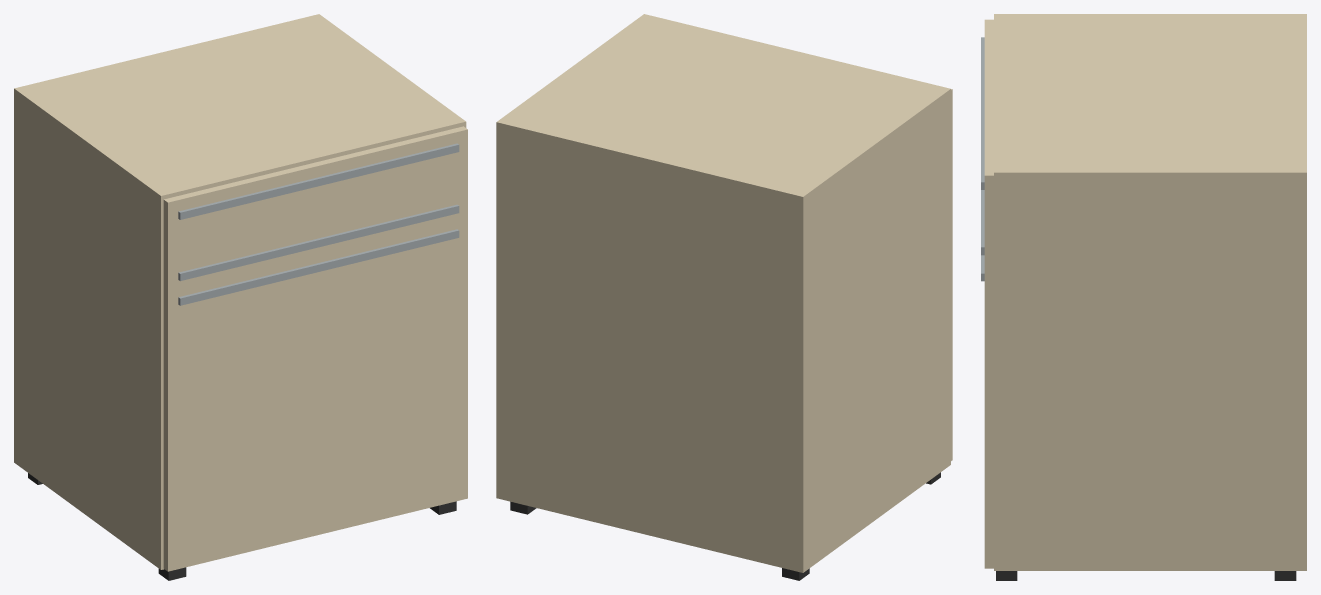
3 renders of one model, left to right at view 1: azimuth 30°, elevation 25°; view 2: azimuth 150°, elevation 25°; view 3: azimuth 270°, elevation 25°, orthographic. The views are drawn at different scales.
Parts seen in each view (by area): view 1: Carcass, DoorFull, DoorLow, DrawerFront, DoorStrip, DrawerStrip, DoorFullStrip; view 2: Carcass; view 3: Carcass, DoorFull, DoorLow, DoorFullStrip.
Part boxes in pixels (box(x1,y1,x2,y2)): Carcass: box(14, 14, 466, 569); DoorFull: box(163, 126, 467, 571); DoorLow: box(163, 218, 467, 571); DrawerFront: box(164, 130, 467, 285); DoorStrip: box(178, 229, 459, 305); DrawerStrip: box(178, 204, 459, 280); DoorFullStrip: box(178, 143, 459, 219); Carcass: box(496, 14, 950, 572); Carcass: box(994, 14, 1306, 570); DoorFull: box(984, 19, 993, 567); DoorLow: box(984, 270, 993, 568); DoorFullStrip: box(981, 37, 984, 189).
Bounding box in the file's own units: 0.7 × 0.85 × 0.608.
